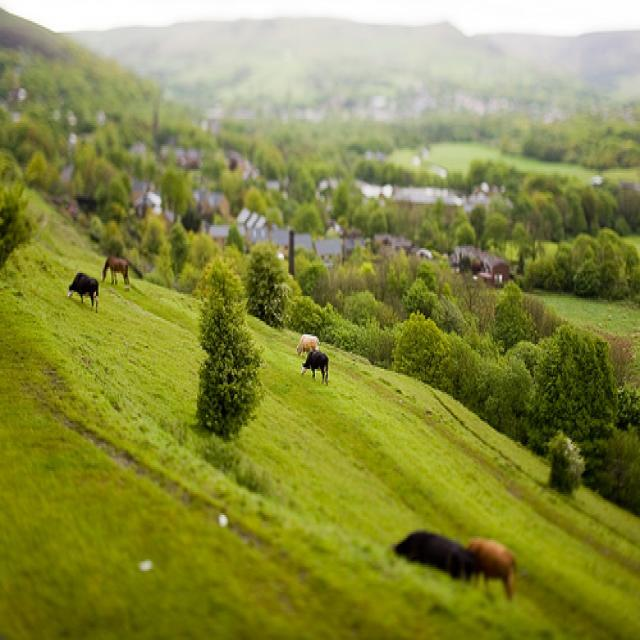cow: (389, 529, 516, 600), (67, 269, 97, 309), (298, 348, 328, 384), (295, 331, 318, 356)
